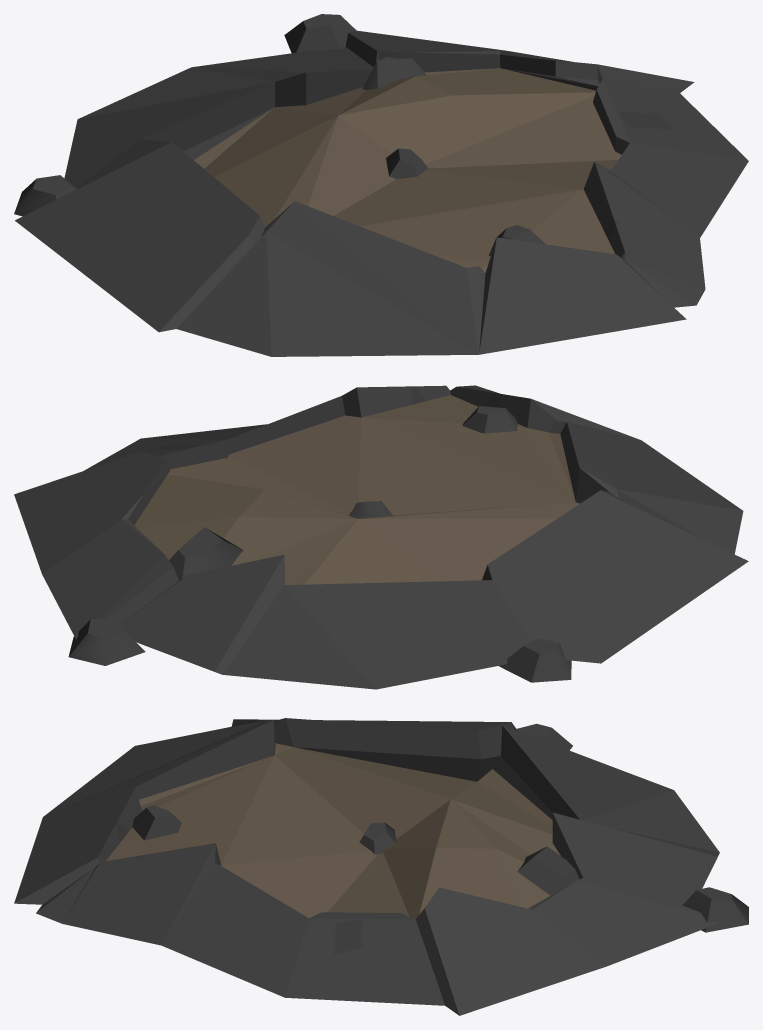
The model's file is SM_Env_RoadPiece_Damaged_05.glb.
3 renders of one model, top to bottom at view 1: azimuth 30°, elevation 25°; view 2: azimuth 150°, elevation 25°; view 3: azimuth 270°, elevation 25°, orthographic. The views are drawn at different scales.
Parts seen in each view (by area): view 1: SM_Env_RoadPiece_Damaged_05; view 2: SM_Env_RoadPiece_Damaged_05; view 3: SM_Env_RoadPiece_Damaged_05.
Boxes of the visible parts, bbox=[...] form: SM_Env_RoadPiece_Damaged_05: bbox=[14, 14, 748, 356]; SM_Env_RoadPiece_Damaged_05: bbox=[14, 385, 748, 689]; SM_Env_RoadPiece_Damaged_05: bbox=[14, 718, 748, 1015].
Bounding box in the file's own units: 3.77 × 0.4753 × 3.95.
1 material, 1 textured.
